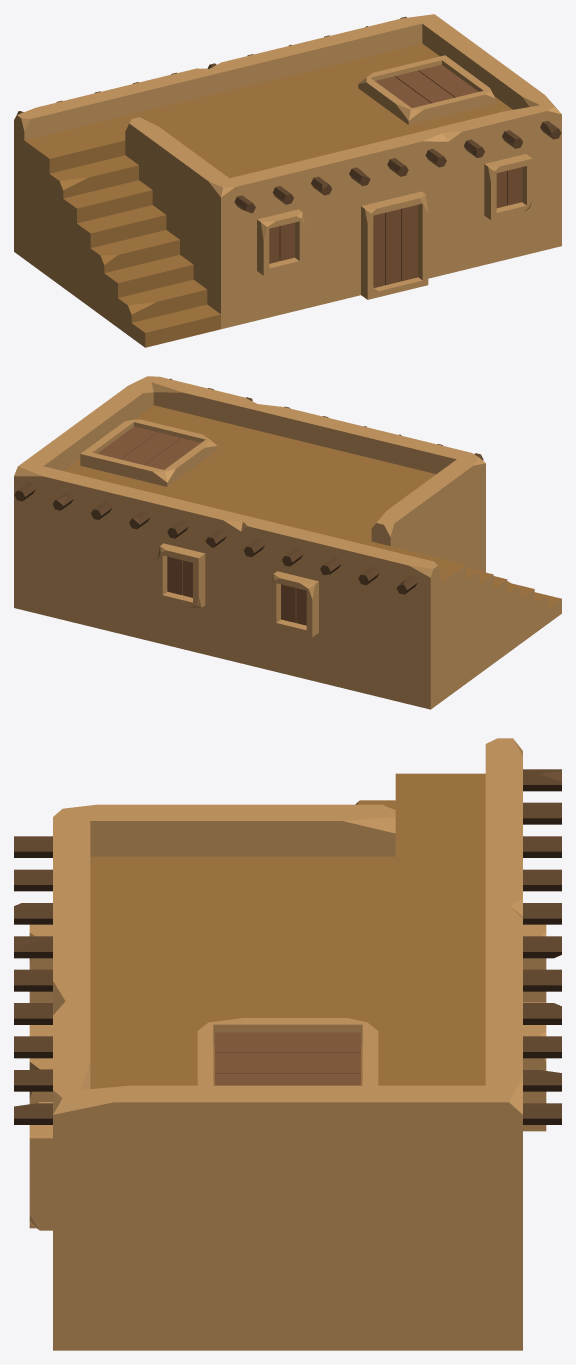
Rendered from egypt_house-egypt-medium.fbx.
3 views of the same model, one above another, from view 1: azimuth 30°, elevation 25°; view 2: azimuth 150°, elevation 25°; view 3: azimuth 270°, elevation 25° (orthographic). The views are drawn at different scales.
Visible parts, largest first — view 1: egypt_house_egypt_medium; view 2: egypt_house_egypt_medium; view 3: egypt_house_egypt_medium.
Boxes of the visible parts, <box> form: egypt_house_egypt_medium: <box>14,14,561,347</box>; egypt_house_egypt_medium: <box>14,376,561,709</box>; egypt_house_egypt_medium: <box>14,738,561,1350</box>.
Bounding box in the file's own units: 200 × 63.62 × 127.
